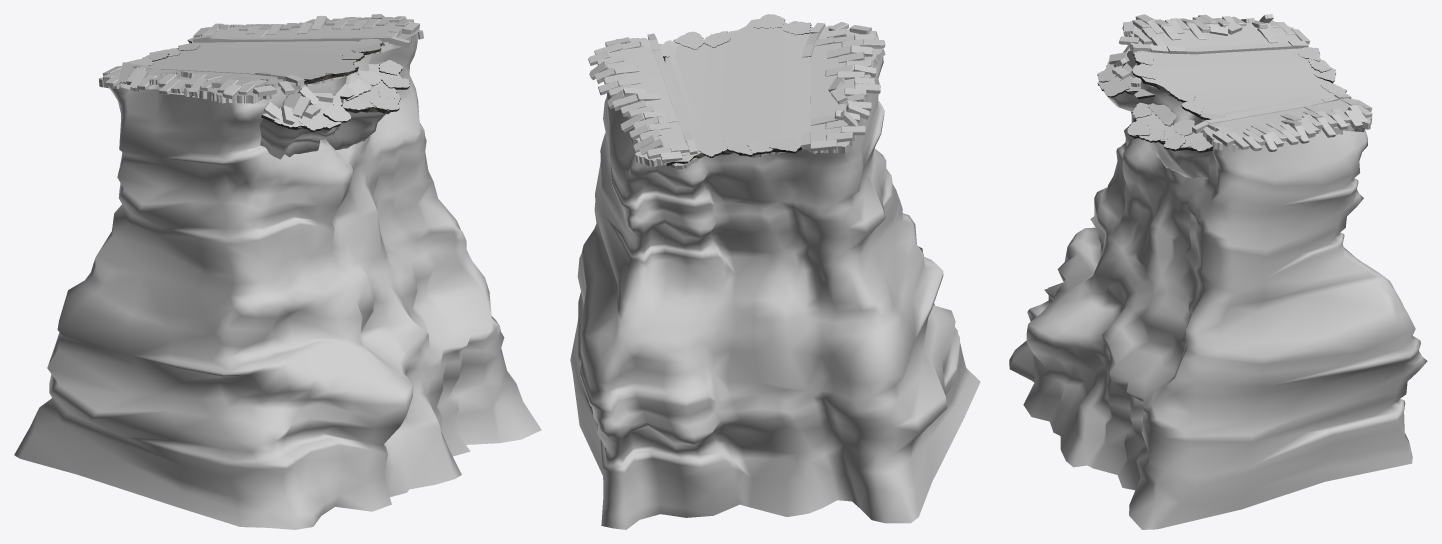
File: backup.fbx
3 renders of one model, left to right at view 1: azimuth 30°, elevation 25°; view 2: azimuth 150°, elevation 25°; view 3: azimuth 270°, elevation 25°, orthographic. The views are drawn at different scales.
Parts seen in each view (by area): view 1: LODGroup_1_MainMesh_1_SubMesh_5, LODGroup_1_MainMesh_1_SubMesh_3, LODGroup_1_MainMesh_1_SubMesh_4, LODGroup_1_MainMesh_1_SubMesh_1, LODGroup_1_MainMesh_1_SubMesh_2; view 2: LODGroup_1_MainMesh_1_SubMesh_5, LODGroup_1_MainMesh_1_SubMesh_3, LODGroup_1_MainMesh_1_SubMesh_4, LODGroup_1_MainMesh_1_SubMesh_1, LODGroup_1_MainMesh_1_SubMesh_6, LODGroup_1_MainMesh_1_SubMesh_2; view 3: LODGroup_1_MainMesh_1_SubMesh_5, LODGroup_1_MainMesh_1_SubMesh_4, LODGroup_1_MainMesh_1_SubMesh_3, LODGroup_1_MainMesh_1_SubMesh_2, LODGroup_1_MainMesh_1_SubMesh_6, LODGroup_1_MainMesh_1_SubMesh_1.
Part boxes in pixels (left/top/right/bottom): LODGroup_1_MainMesh_1_SubMesh_5: left=14, top=40, right=541, bottom=529; LODGroup_1_MainMesh_1_SubMesh_3: left=102, top=14, right=419, bottom=124; LODGroup_1_MainMesh_1_SubMesh_4: left=125, top=37, right=409, bottom=130; LODGroup_1_MainMesh_1_SubMesh_1: left=99, top=29, right=423, bottom=103; LODGroup_1_MainMesh_1_SubMesh_2: left=148, top=39, right=410, bottom=132; LODGroup_1_MainMesh_1_SubMesh_5: left=570, top=58, right=980, bottom=529; LODGroup_1_MainMesh_1_SubMesh_3: left=588, top=22, right=885, bottom=163; LODGroup_1_MainMesh_1_SubMesh_4: left=659, top=14, right=813, bottom=163; LODGroup_1_MainMesh_1_SubMesh_1: left=615, top=25, right=885, bottom=169; LODGroup_1_MainMesh_1_SubMesh_6: left=664, top=33, right=809, bottom=154; LODGroup_1_MainMesh_1_SubMesh_2: left=663, top=20, right=811, bottom=166; LODGroup_1_MainMesh_1_SubMesh_5: left=1009, top=80, right=1427, bottom=529; LODGroup_1_MainMesh_1_SubMesh_4: left=1097, top=43, right=1359, bottom=150; LODGroup_1_MainMesh_1_SubMesh_3: left=1108, top=14, right=1372, bottom=151; LODGroup_1_MainMesh_1_SubMesh_2: left=1097, top=52, right=1346, bottom=152; LODGroup_1_MainMesh_1_SubMesh_6: left=1149, top=49, right=1345, bottom=117; LODGroup_1_MainMesh_1_SubMesh_1: left=1122, top=19, right=1372, bottom=151.
Size of the model in its own units: 2305 by 2159 by 2108.
